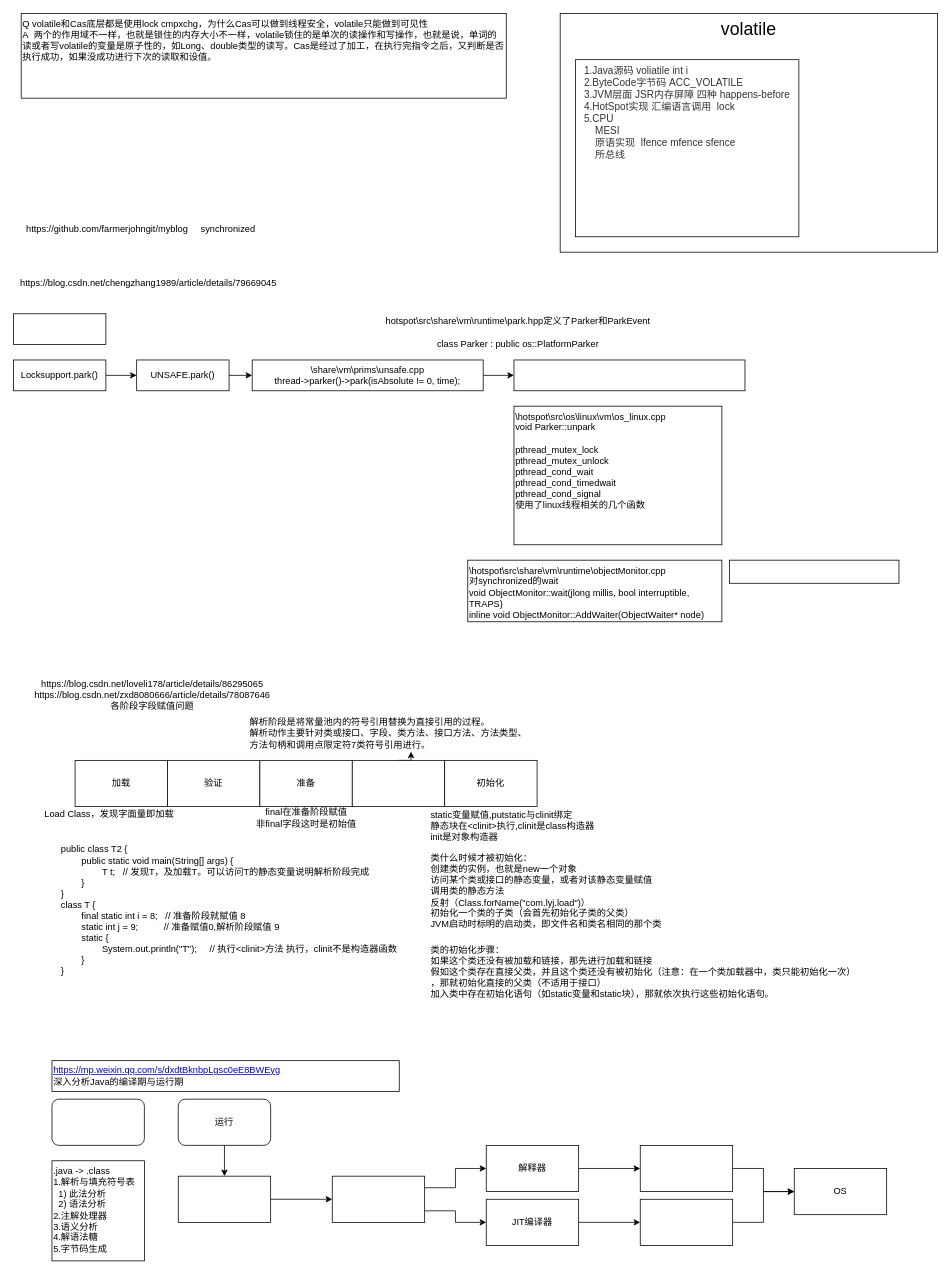
Image size: 951x1274. Some labels were removed from this diagram. Here are the shapes that lost their labels. From the top down, the box of each, then its label:
(13, 313, 106, 345): AQS也是使用LockSupport阻塞线程
(513, 359, 745, 391): \hotspot\src\os\linux\vm\os_linux.cpp void Parker::park
(729, 559, 899, 583): ParkEvent是为了synchronized用的， Parker是JSR166来的并发工具集合
(352, 760, 445, 807): 解析
(51, 1098, 144, 1145): 编译
(639, 1145, 733, 1192): 解释运行
(177, 1175, 271, 1222): 类加载器
(331, 1175, 425, 1222): 字节码验证器
(639, 1199, 733, 1245): 机器码
